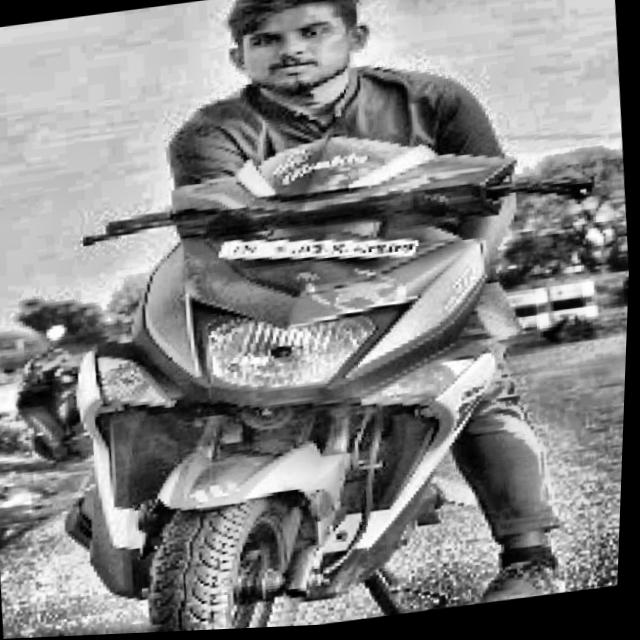motorcycle: (20, 103, 618, 639)
